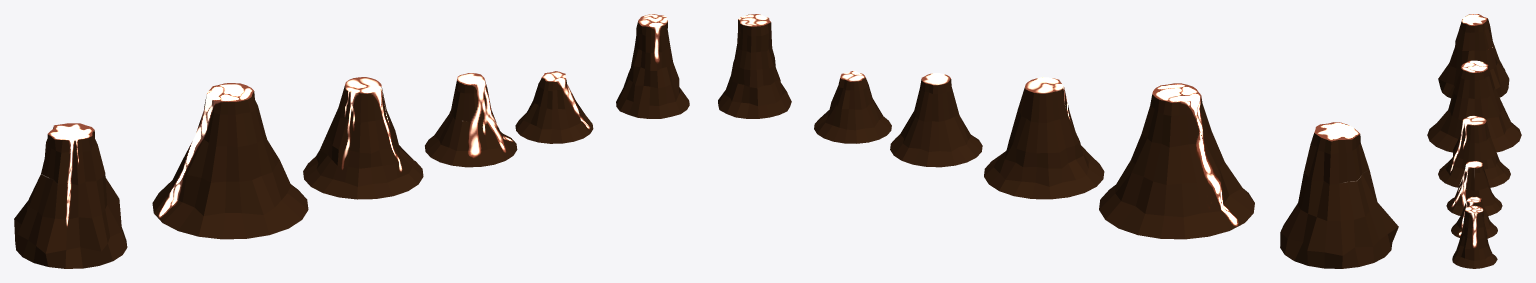
Rendered from volcanoes.fbx.
The picture shows the model from 3 angles, left to right: view 1: azimuth 30°, elevation 25°; view 2: azimuth 150°, elevation 25°; view 3: azimuth 270°, elevation 25°; orthographic projection. The views are drawn at different scales.
Parts seen in each view (by area): view 1: Cylinder.004, Cylinder.005, Cylinder.002, Cylinder.001, Cylinder.003, Cylinder; view 2: Cylinder.004, Cylinder.005, Cylinder.002, Cylinder.001, Cylinder.003, Cylinder; view 3: Cylinder.004, Cylinder.005, Cylinder.002, Cylinder.003, Cylinder.001, Cylinder.
Boxes of the visible parts, <box> form: Cylinder.004: <box>152,83,308,239</box>; Cylinder.005: <box>14,123,127,268</box>; Cylinder.002: <box>303,77,423,199</box>; Cylinder.001: <box>425,73,517,167</box>; Cylinder.003: <box>616,14,689,118</box>; Cylinder: <box>515,71,593,143</box>; Cylinder.004: <box>1099,83,1254,239</box>; Cylinder.005: <box>1280,122,1398,268</box>; Cylinder.002: <box>984,77,1104,199</box>; Cylinder.001: <box>890,73,982,167</box>; Cylinder.003: <box>718,14,791,118</box>; Cylinder: <box>814,71,891,143</box>; Cylinder.004: <box>1427,60,1521,152</box>; Cylinder.005: <box>1438,14,1509,98</box>; Cylinder.002: <box>1438,115,1510,187</box>; Cylinder.003: <box>1452,205,1497,268</box>; Cylinder.001: <box>1446,161,1502,215</box>; Cylinder: <box>1451,196,1497,238</box>.
Size of the model in its own units: 57480 by 9392 by 11779.
